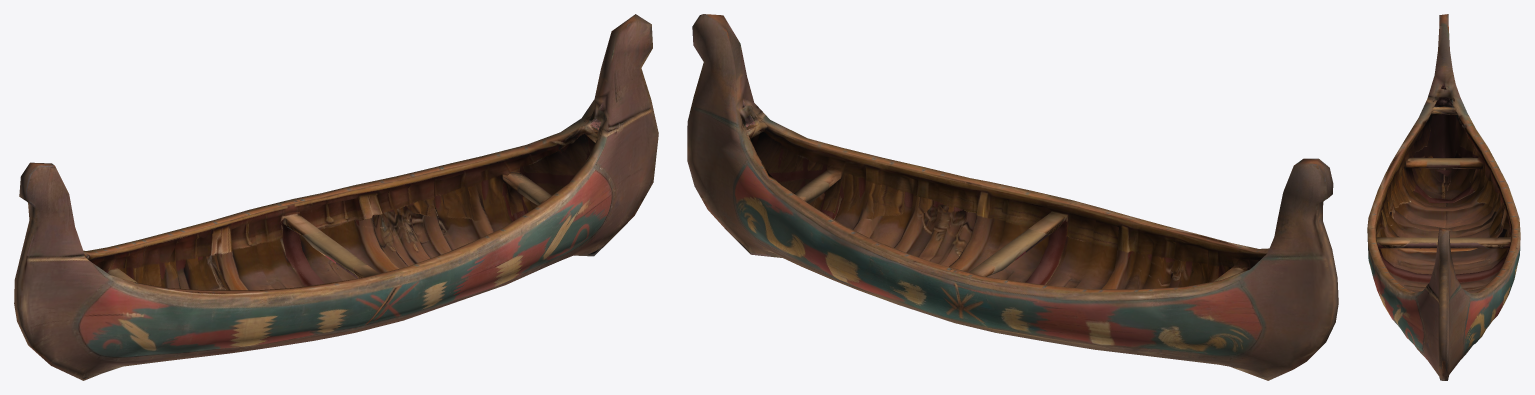
Rendered from canoe.obj.
3 views of the same model, side by side, from view 1: azimuth 30°, elevation 25°; view 2: azimuth 150°, elevation 25°; view 3: azimuth 270°, elevation 25° (orthographic). The views are drawn at different scales.
Parts seen in each view (by area): view 1: an_old_American_India_0925025006_texture; view 2: an_old_American_India_0925025006_texture; view 3: an_old_American_India_0925025006_texture.
Part boxes in pixels (x1,y1,x2,y2): an_old_American_India_0925025006_texture: (14, 14, 658, 380); an_old_American_India_0925025006_texture: (687, 14, 1338, 380); an_old_American_India_0925025006_texture: (1367, 14, 1520, 380).
Size of the model in its own units: 1.91 by 0.6489 by 0.5399.
